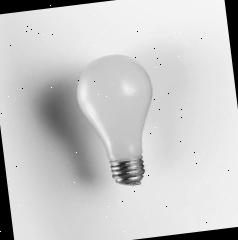lightbulb: (70, 50, 164, 190)
